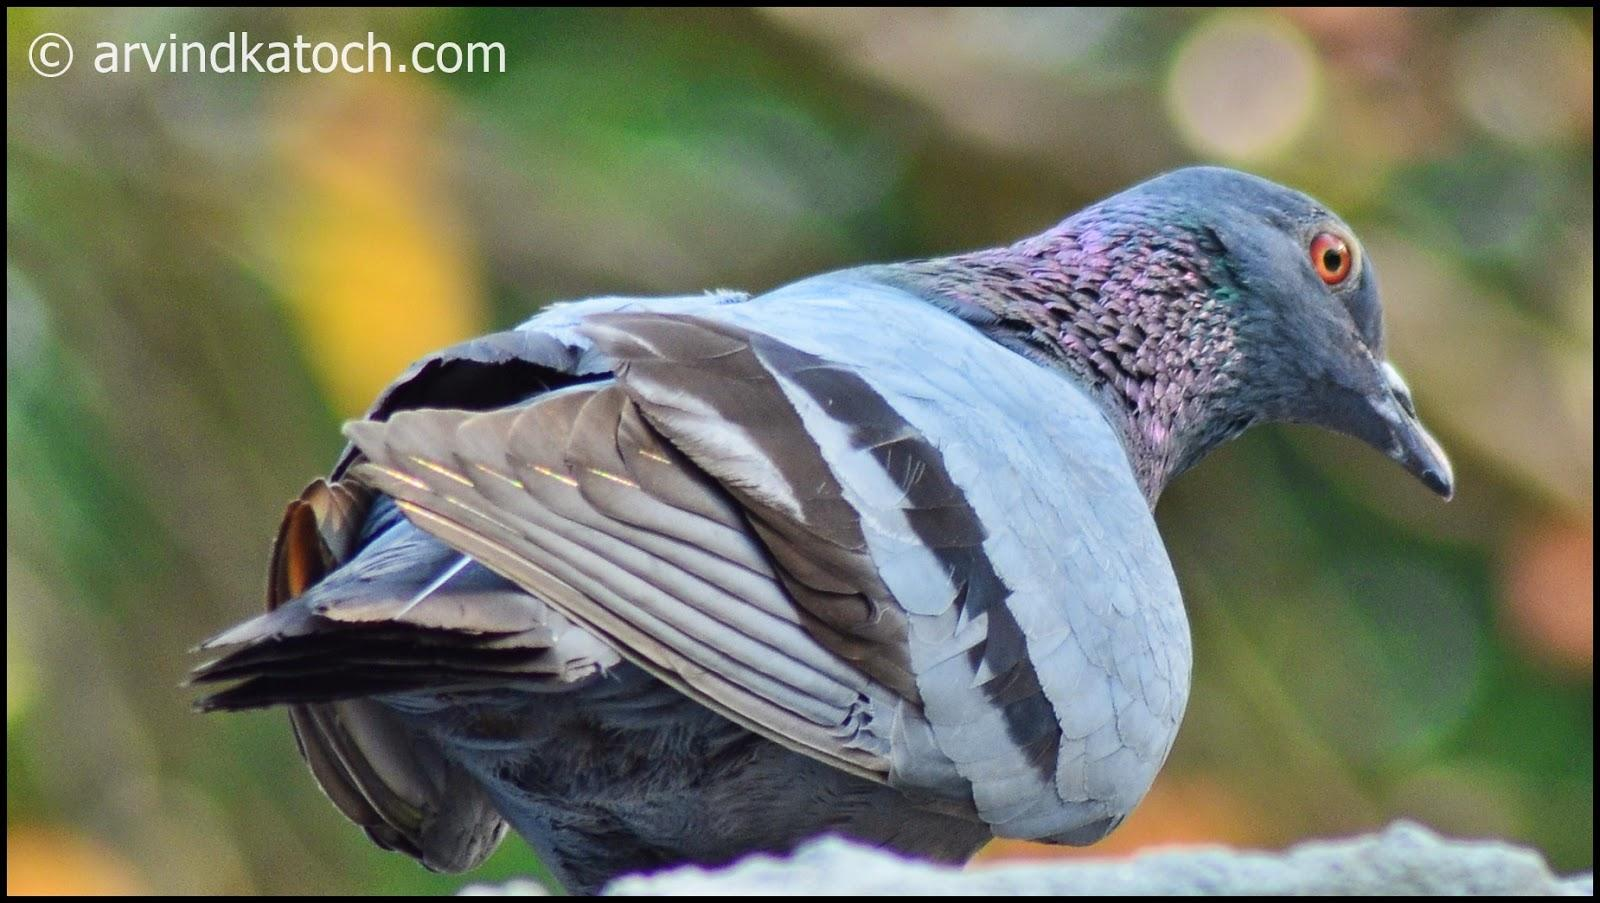Flying Rat: (184, 161, 1471, 890)
